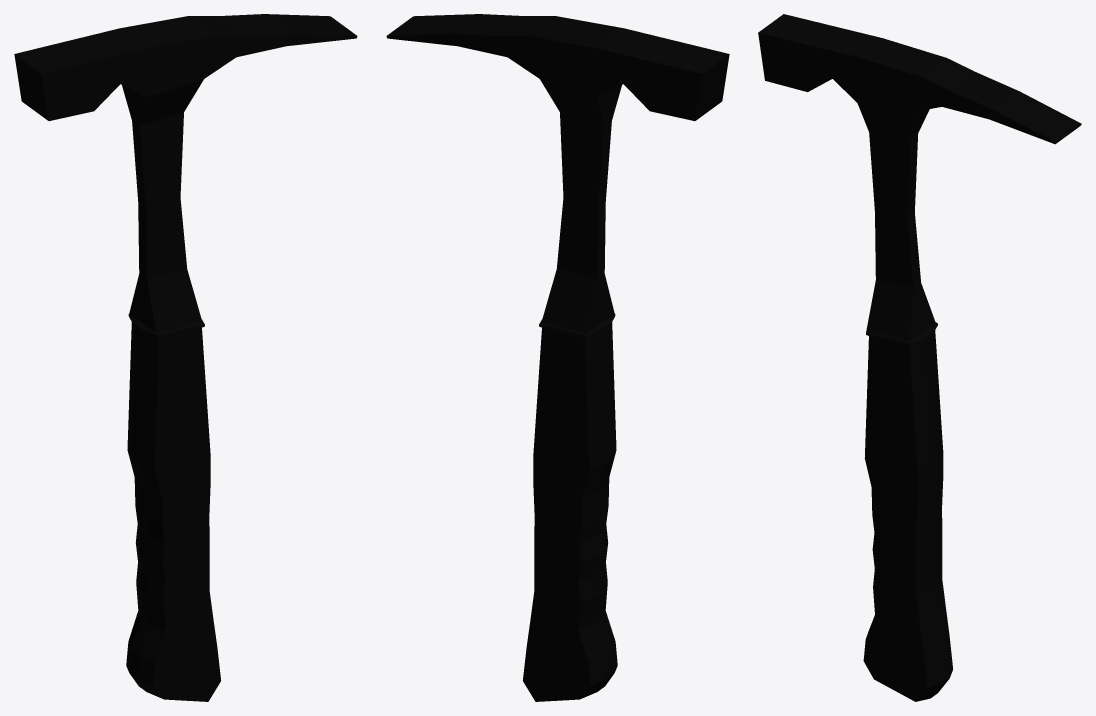
The model's file is geopick.glb.
3 views of the same model, side by side, from view 1: azimuth 30°, elevation 25°; view 2: azimuth 150°, elevation 25°; view 3: azimuth 330°, elevation 25° (orthographic). The views are drawn at different scales.
Parts seen in each view (by area): view 1: Cube, Cube.001; view 2: Cube, Cube.001; view 3: Cube, Cube.001.
Part boxes in pixels (box(x1,y1,x2,y2)): Cube: box(14, 14, 357, 333); Cube.001: box(126, 313, 220, 701); Cube: box(386, 14, 729, 333); Cube.001: box(523, 313, 617, 701); Cube: box(758, 14, 1081, 340); Cube.001: box(863, 322, 952, 701).
Size of the model in its own units: 2.39 by 4.84 by 0.3886.
1 material, 1 textured.
